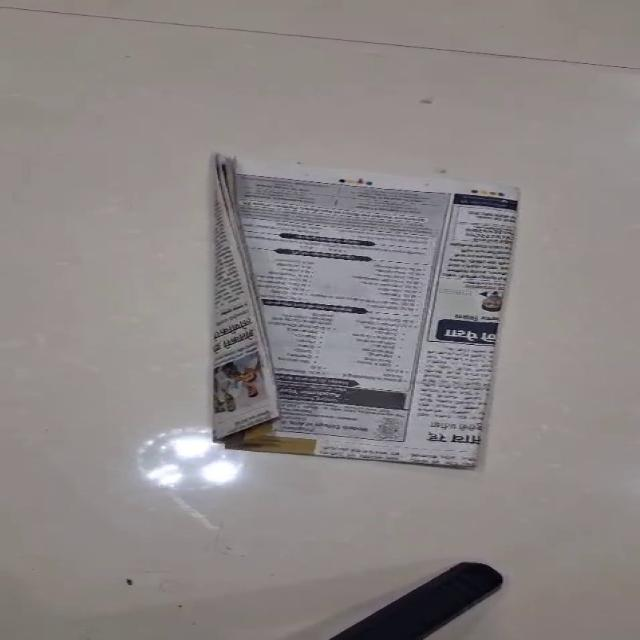paper: (210, 153, 521, 469)
